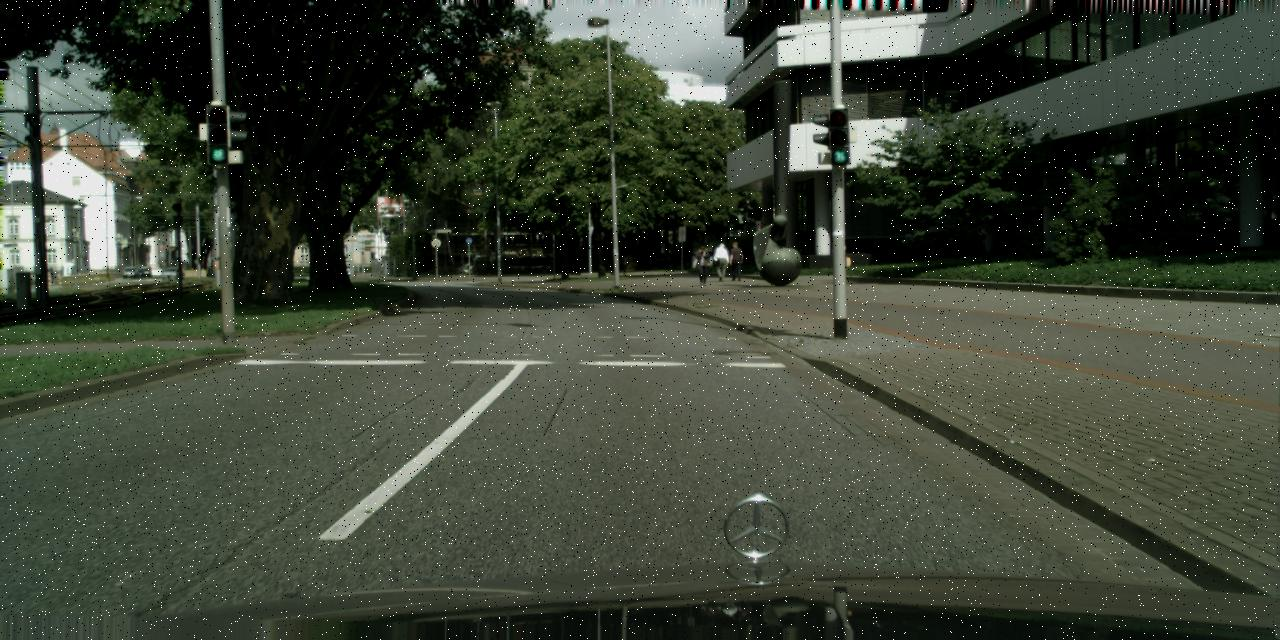ped: (728, 241, 743, 281), (695, 245, 710, 284), (713, 242, 728, 280)
